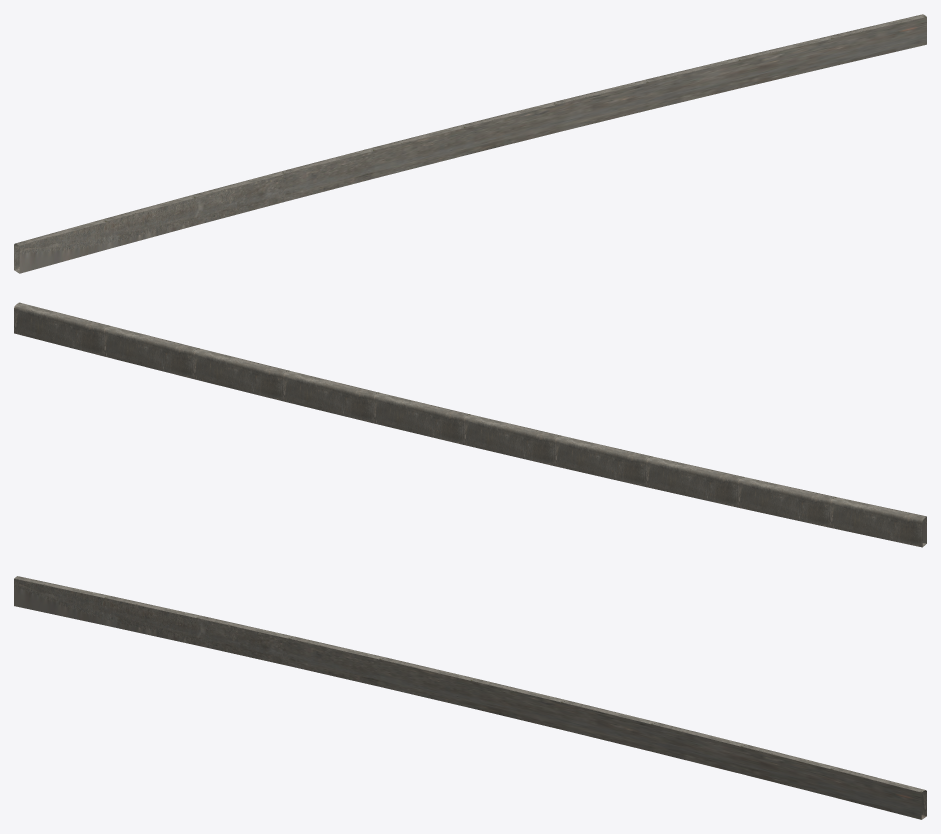
The model's file is SM_Curb_14.glb.
The picture shows the model from 3 angles, top to bottom: view 1: azimuth 30°, elevation 25°; view 2: azimuth 150°, elevation 25°; view 3: azimuth 330°, elevation 25°; orthographic projection.
Visible parts, largest first — view 1: SM_Curb_14; view 2: SM_Curb_14; view 3: SM_Curb_14.
Part boxes in pixels (box(x1,y1,x2,y2)): SM_Curb_14: box(14, 14, 926, 273); SM_Curb_14: box(14, 302, 926, 547); SM_Curb_14: box(14, 576, 926, 819).
Bounding box in the file's own units: 2588 × 75.04 × 75.36.
Materials: 1 (1 with a texture image).
